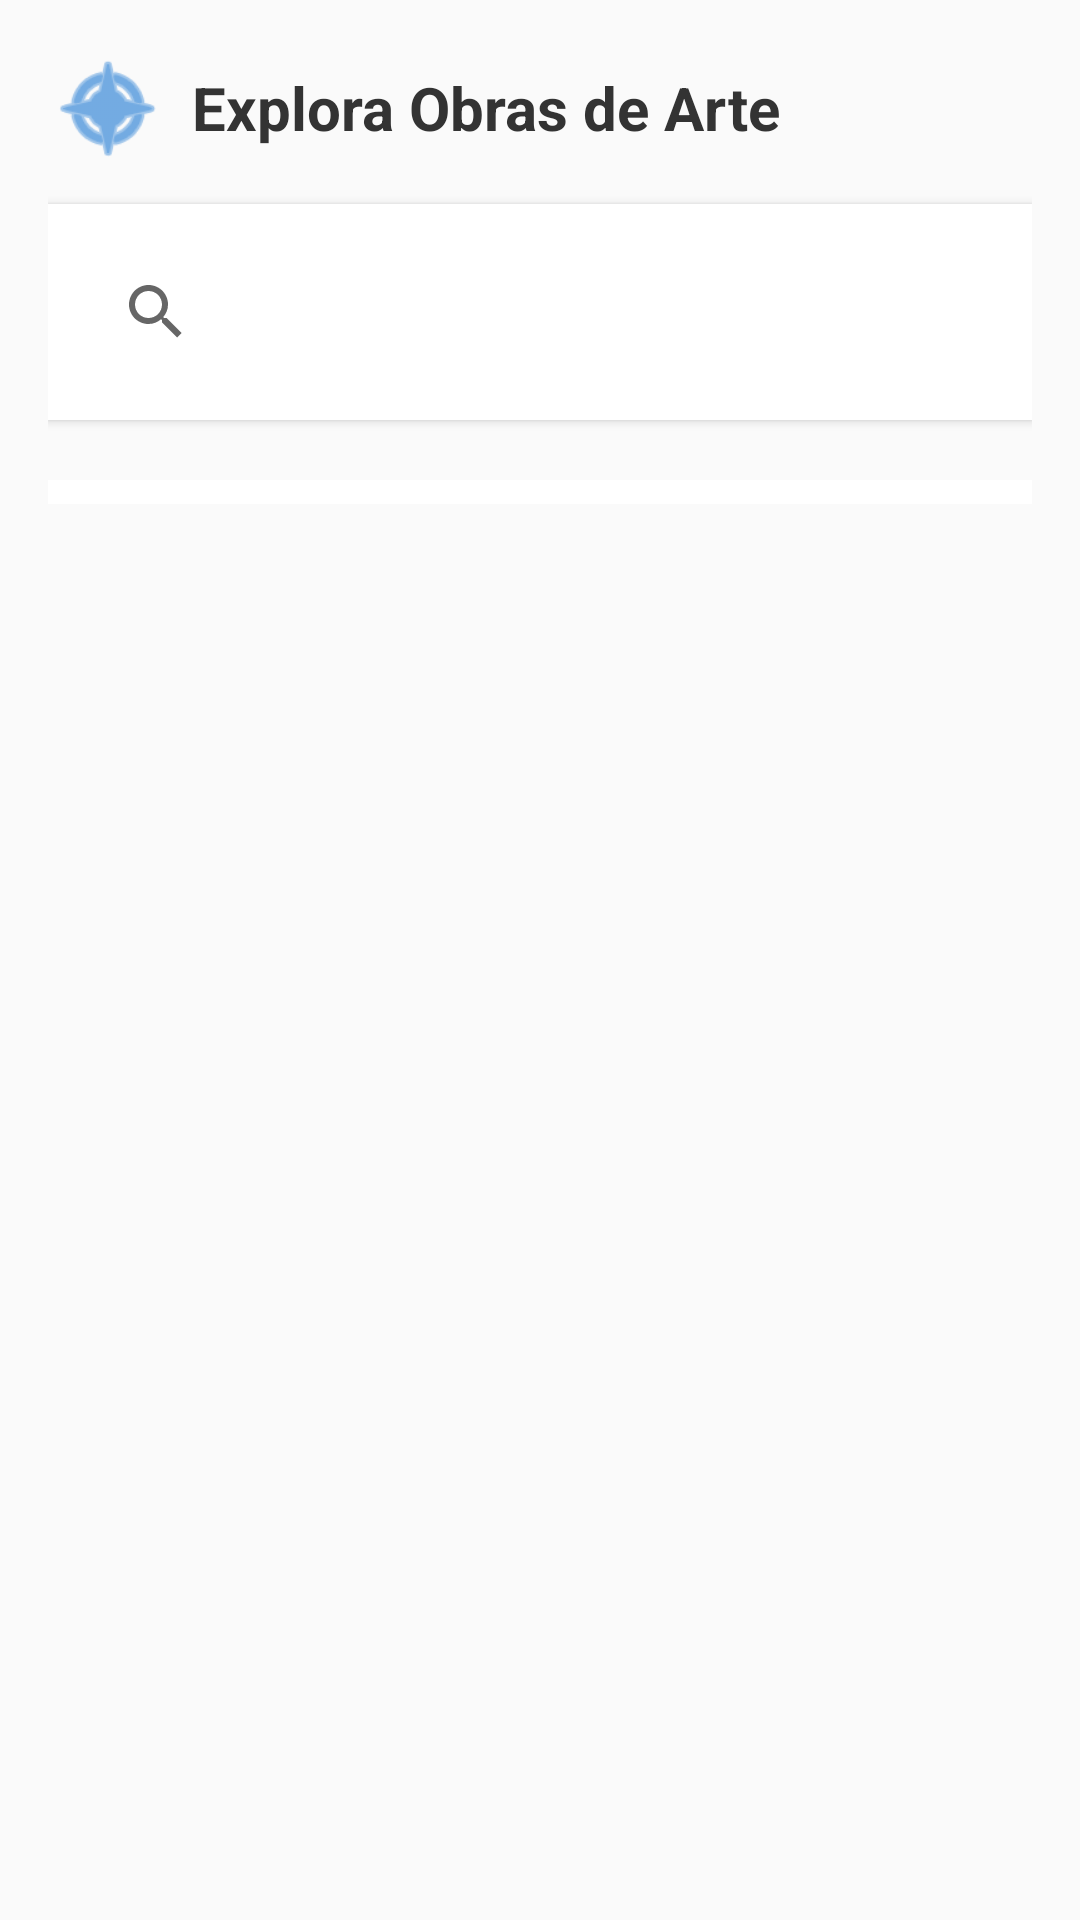

Icons on this 1080*1920 Android screen, each with the point to tap as (x,y):
compass: (107,108)
